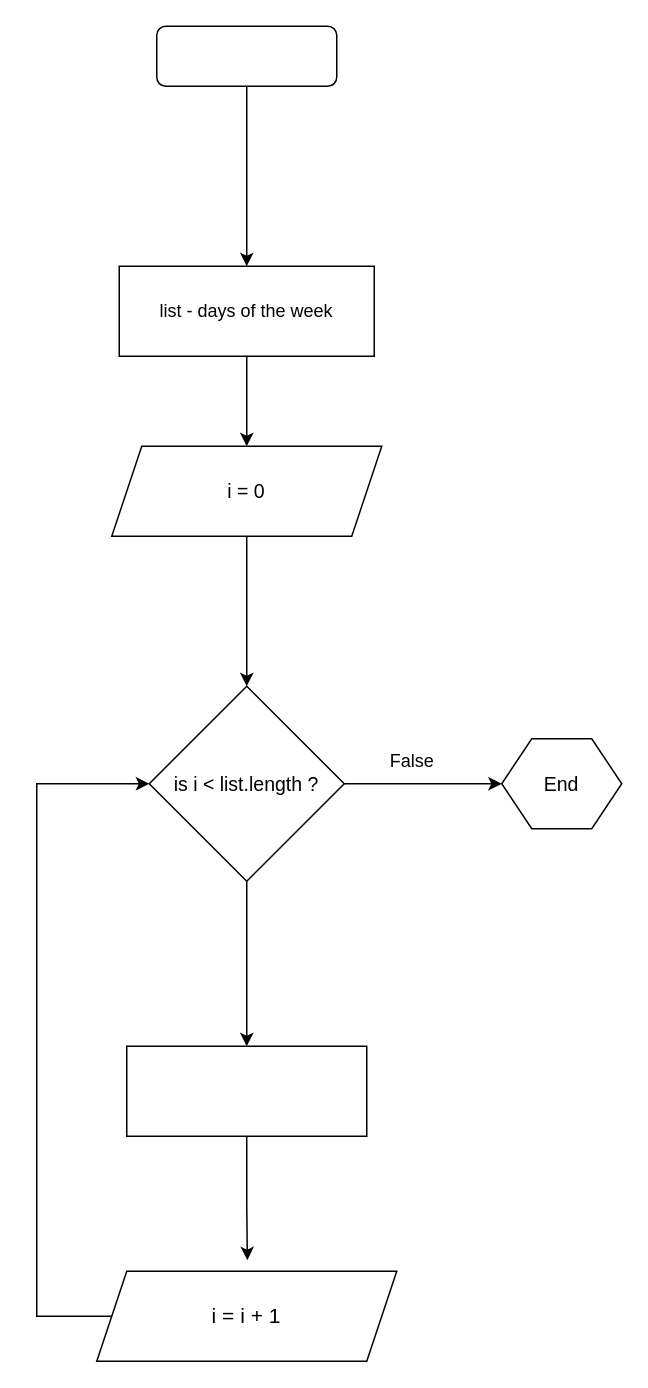
Some shapes in this 648 by 1388 pixel diagram are drawn without their labels. Here are the shapes that lost their labels. From the top down, the centre of each, then its label:
At point (246, 55): "Start".
At point (246, 1090): "print list[i]".
